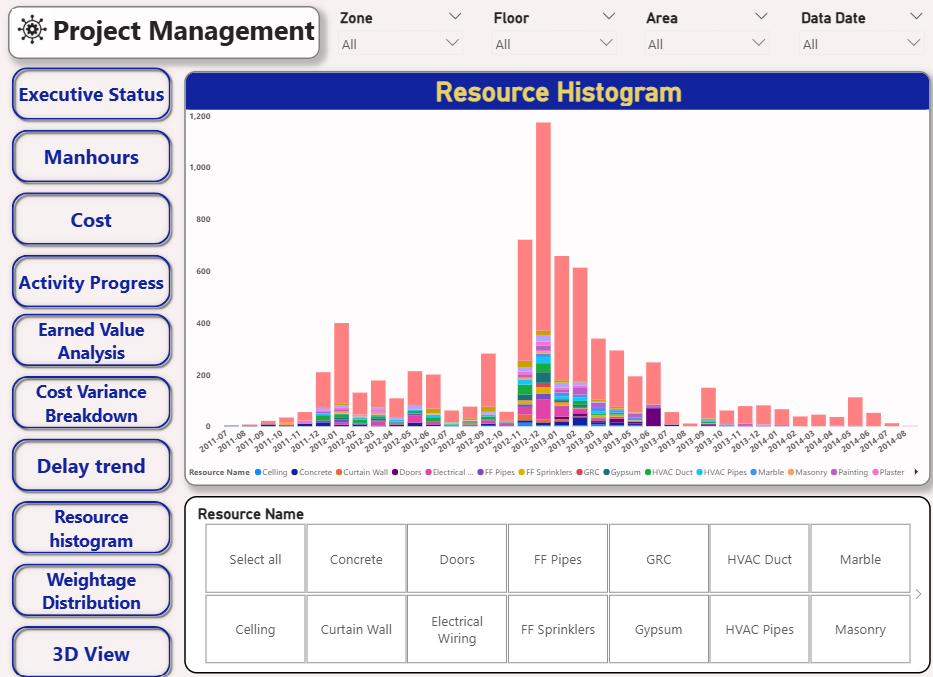

This screenshot's page, from the dashboard's own definition file:
{"tool":"powerbi","page":{"name":"Resource Histogram","canvas":[1500,1100],"ordinal":7},"visuals":[{"type":"textbox","box":[15.2,16.2,499.3,84.6],"z":0},{"type":"image","box":[15.2,16.9,77.9,74.5],"z":1000},{"type":"slicer","fields":{"Values":["Floorcodes_Table.Floor Code Value"]},"box":[780.3,16.9,220,84.6],"z":2000},{"type":"slicer","fields":{"Values":["H areas_Table.H aresCode Value"]},"box":[1024,16.9,220,84.6],"z":3000},{"type":"slicer","fields":{"Values":["Aug14tasks_Table.Zone Number"]},"box":[534.9,16.9,220,84.6],"z":4000},{"type":"slicer","fields":{"Values":["Summary_Table.Data Date."]},"box":[1272.9,16.9,220,84.6],"z":5000},{"type":"slicer","fields":{"Values":["Resource_Table.Resource Name"]},"box":[298,800,1194,284],"z":6000},{"type":"columnChart","title":"Resource Histogram","fields":{"Category":["Task_Table.MonthYear"],"Series":["Resource_Table.Resource Name"],"Y":["CountNonNull(Resource_Table.Resource Name)"]},"box":[298,120,1194,664],"z":7000},{"type":"actionButton","box":[14,106,270,100],"z":8000},{"type":"actionButton","box":[14,206,270,100],"z":9000},{"type":"actionButton","box":[14,306,270,100],"z":10000},{"type":"actionButton","box":[14,406,270,100],"z":11000},{"type":"actionButton","box":[14,500,270,100],"z":12000},{"type":"actionButton","box":[14,600,270,100],"z":13000},{"type":"actionButton","box":[14,700,270,100],"z":14000},{"type":"actionButton","box":[14,800,270,100],"z":15000},{"type":"actionButton","box":[14,900,270,100],"z":16000},{"type":"actionButton","box":[14,1000,270,100],"z":17000}]}

Visuals, with their boxes in screenshot pixels (x1, y1, x2, y2), scaled from the page's 1500x1100 canvas onto the 933x677 screenshot:
textbox: <box>9,10,320,62</box>
image: <box>9,10,58,56</box>
slicer - Floorcodes_Table.Floor Code Value: <box>485,10,622,62</box>
slicer - H areas_Table.H aresCode Value: <box>637,10,774,62</box>
slicer - Aug14tasks_Table.Zone Number: <box>333,10,470,62</box>
slicer - Summary_Table.Data Date.: <box>792,10,929,62</box>
slicer - Resource_Table.Resource Name: <box>185,492,928,667</box>
"Resource Histogram" columnChart: <box>185,74,928,483</box>
actionButton: <box>9,65,177,127</box>
actionButton: <box>9,127,177,188</box>
actionButton: <box>9,188,177,250</box>
actionButton: <box>9,250,177,311</box>
actionButton: <box>9,308,177,369</box>
actionButton: <box>9,369,177,431</box>
actionButton: <box>9,431,177,492</box>
actionButton: <box>9,492,177,554</box>
actionButton: <box>9,554,177,615</box>
actionButton: <box>9,615,177,676</box>
